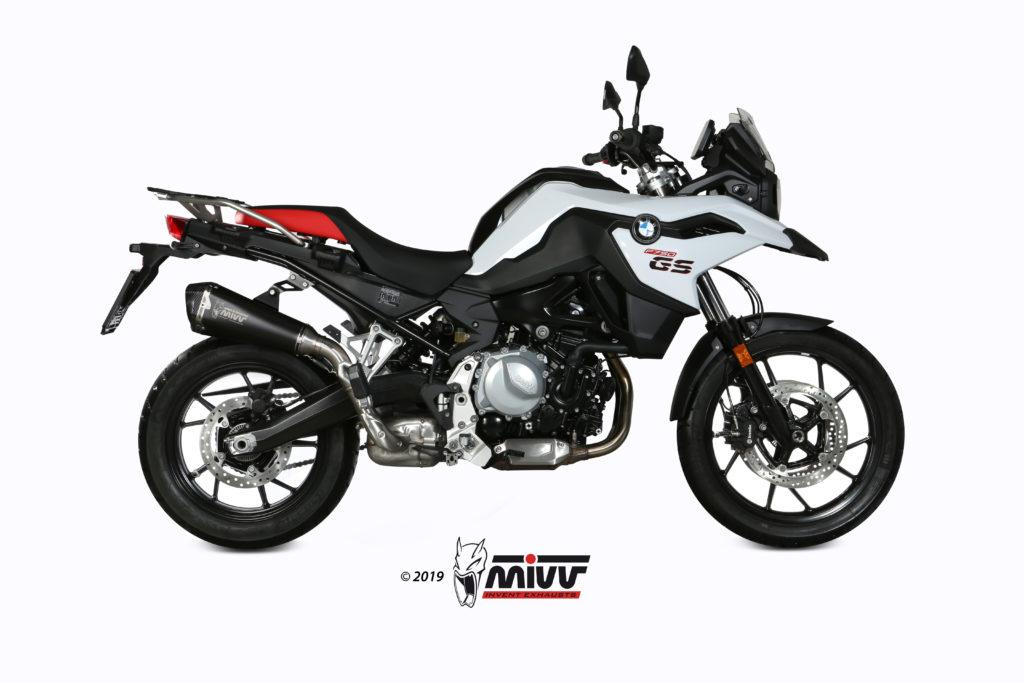engine-chasis: (411, 272, 629, 467), (374, 335, 437, 376), (412, 307, 464, 347)
exhaust: (184, 282, 446, 468), (481, 353, 634, 472)
frontside: (445, 107, 834, 447)
handlebar: (581, 44, 761, 196)
motorbike: (102, 46, 906, 548)
rearside: (99, 186, 470, 409), (222, 384, 358, 457)
seat: (247, 205, 473, 296), (233, 210, 275, 229)
tank: (468, 165, 630, 257)
watermark: (396, 534, 593, 610)
wheel: (676, 326, 906, 549), (138, 336, 361, 551), (712, 265, 764, 342), (724, 348, 739, 430), (283, 456, 315, 471), (360, 440, 367, 451)
